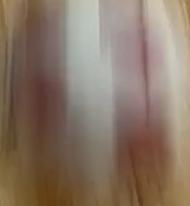Sports-Ball: (18, 9, 176, 179)
